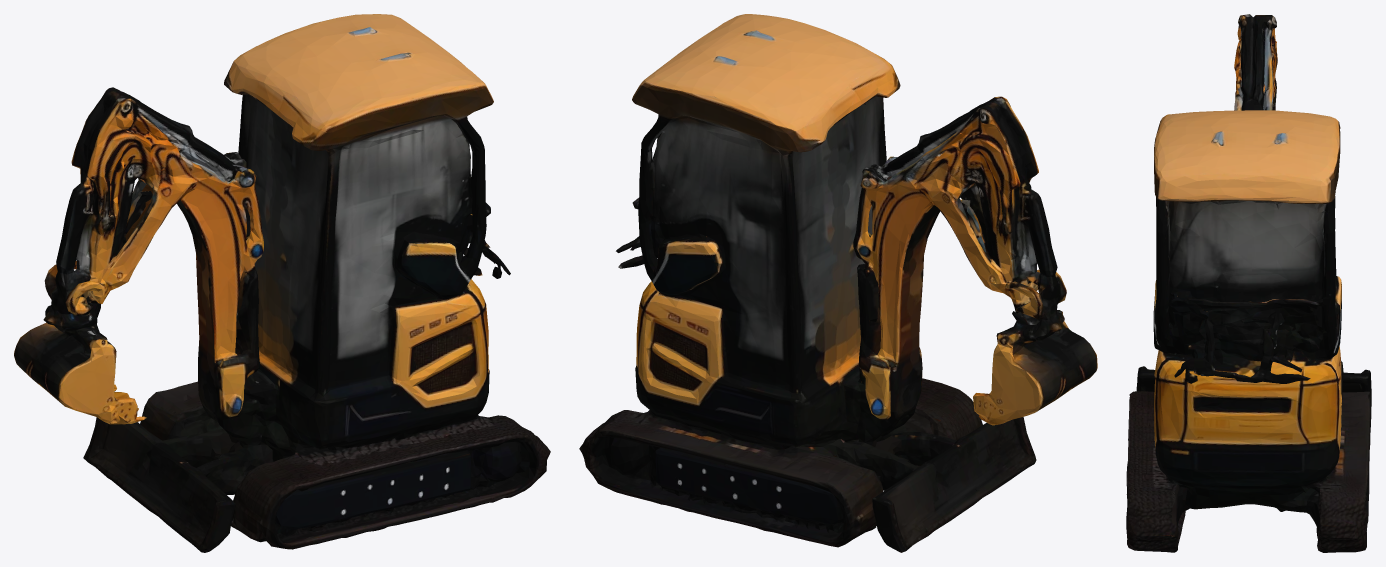
The model's file is miniBager-v1.glb.
3 views of the same model, side by side, from view 1: azimuth 30°, elevation 25°; view 2: azimuth 150°, elevation 25°; view 3: azimuth 270°, elevation 25° (orthographic). The views are drawn at different scales.
Visible parts, largest first — view 1: textured_mesh.obj; view 2: textured_mesh.obj; view 3: textured_mesh.obj.
Boxes of the visible parts, bbox=[...] form: textured_mesh.obj: bbox=[14, 14, 550, 552]; textured_mesh.obj: bbox=[579, 14, 1097, 552]; textured_mesh.obj: bbox=[1126, 14, 1371, 552].
Size of the model in its own units: 1.99 by 1.83 by 1.04.
1 material, 1 textured.
